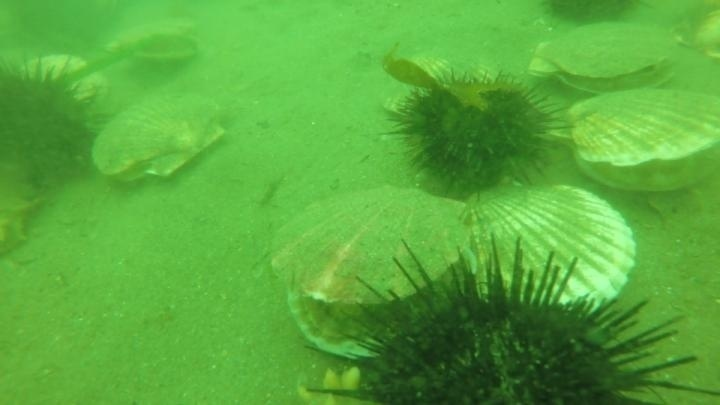echinus: (334, 234, 673, 402), (389, 61, 576, 199), (1, 54, 103, 191), (539, 1, 645, 30)
holothurian: (1, 153, 46, 261)
scallop: (263, 179, 482, 363), (449, 180, 642, 322), (562, 82, 720, 201), (87, 84, 232, 189), (524, 20, 682, 99), (377, 38, 481, 95), (102, 14, 203, 70), (3, 50, 101, 100), (670, 5, 720, 63)
